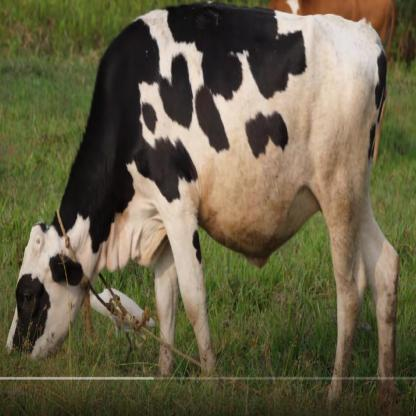cow: (6, 6, 400, 396)
